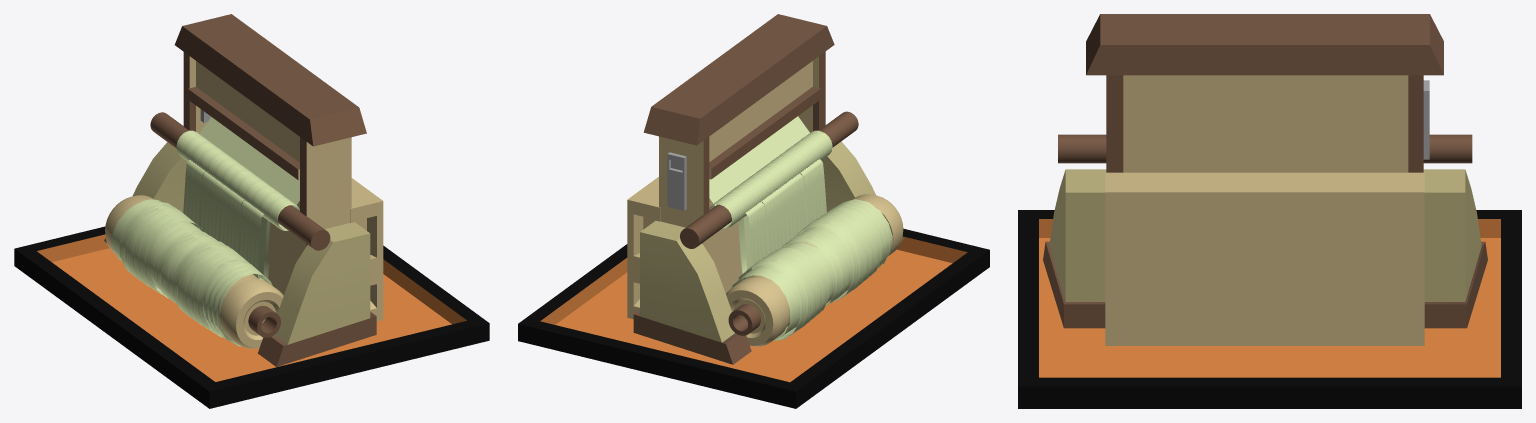
File: SurfaceArea_Weaving.fbx
The picture shows the model from 3 angles, left to right: view 1: azimuth 30°, elevation 25°; view 2: azimuth 150°, elevation 25°; view 3: azimuth 270°, elevation 25°; orthographic projection. The views are drawn at different scales.
Visible parts, largest first — view 1: Weaving, Cube.331, Cube.332, Cylinder.315, Circle.042, Circle.043, Circle.037, Cube.333, Plane.026, Cylinder.316, Circle.035, Circle.039 (+7 smaller); view 2: Weaving, Cube.331, Cube.332, Cylinder.315, Circle.042, Circle.043, Circle.037, Plane.026, Cube.333, Cylinder.316, Circle.033, Circle.040 (+8 smaller); view 3: Cube.333, Cube.331, Weaving, Cube.332, Cylinder.316, Cube.334.
Part boxes in pixels (x1,y1,x2,y2): Weaving: (14,226,489,408); Cube.331: (174,14,366,295); Cube.332: (104,142,376,366); Cylinder.315: (105,195,283,348); Circle.042: (176,130,299,230); Circle.043: (119,202,201,298); Circle.037: (172,240,259,337); Cube.333: (297,178,383,321); Plane.026: (199,117,299,207); Cylinder.316: (150,112,330,250); Circle.035: (202,259,272,346); Circle.039: (239,200,270,280); Weaving: (518,228,989,408); Cube.331: (643,14,834,293); Cube.332: (633,141,903,364); Cylinder.315: (726,194,903,346); Circle.042: (709,130,832,228); Circle.043: (738,247,829,340); Circle.037: (795,209,881,301); Plane.026: (709,116,809,205); Cube.333: (627,177,713,319); Cylinder.316: (680,111,858,248); Circle.033: (780,227,852,305); Circle.040: (738,202,768,273); Cube.333: (1105,171,1424,345); Cube.331: (1086,14,1443,172); Weaving: (1018,210,1521,408); Cube.332: (1043,169,1487,328); Cylinder.316: (1058,134,1472,163); Cube.334: (1423,80,1429,159).
Bounding box in the file's own units: 2.61 × 3.15 × 2.08.
